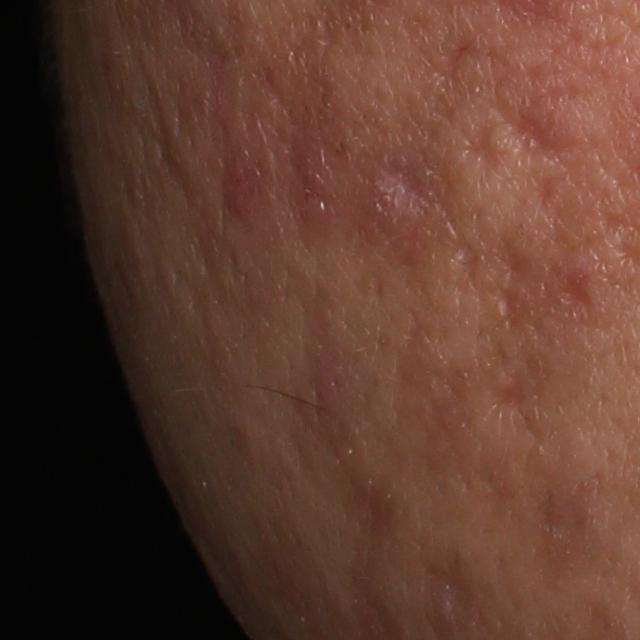atrophic_scar: (488, 256, 593, 330), (488, 91, 589, 160), (402, 18, 482, 103), (375, 152, 445, 221), (459, 116, 512, 177), (492, 369, 526, 413)
papule: (283, 356, 354, 425), (211, 152, 257, 219)
